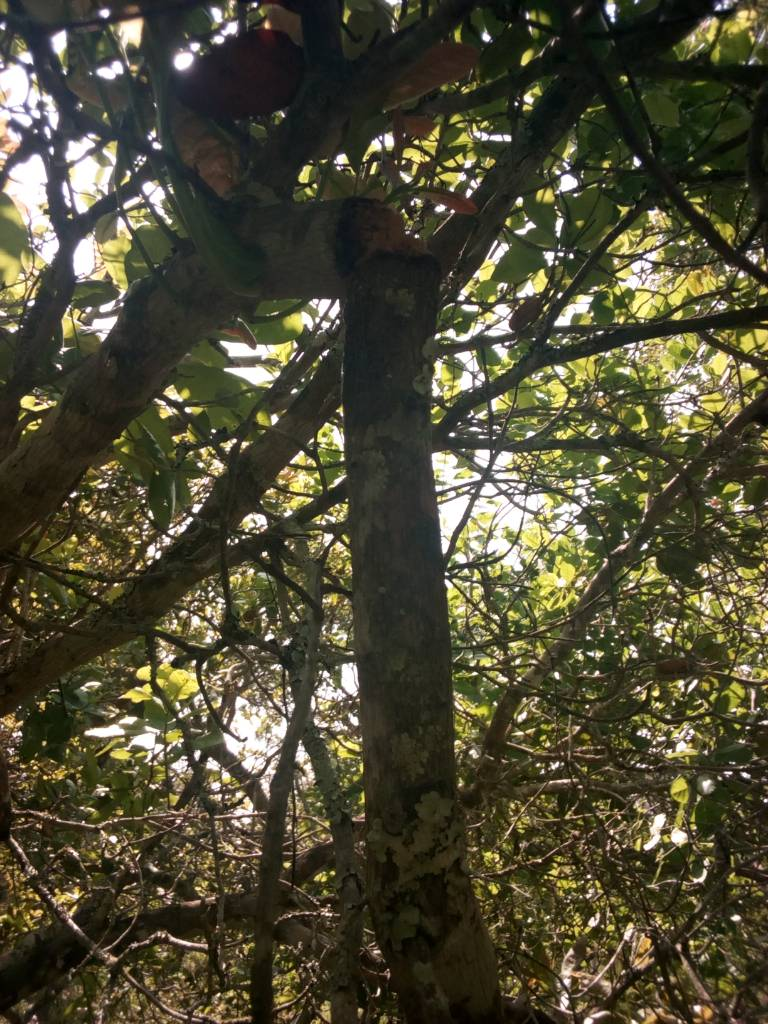Analepse trifasciata: (304, 177, 488, 357)
